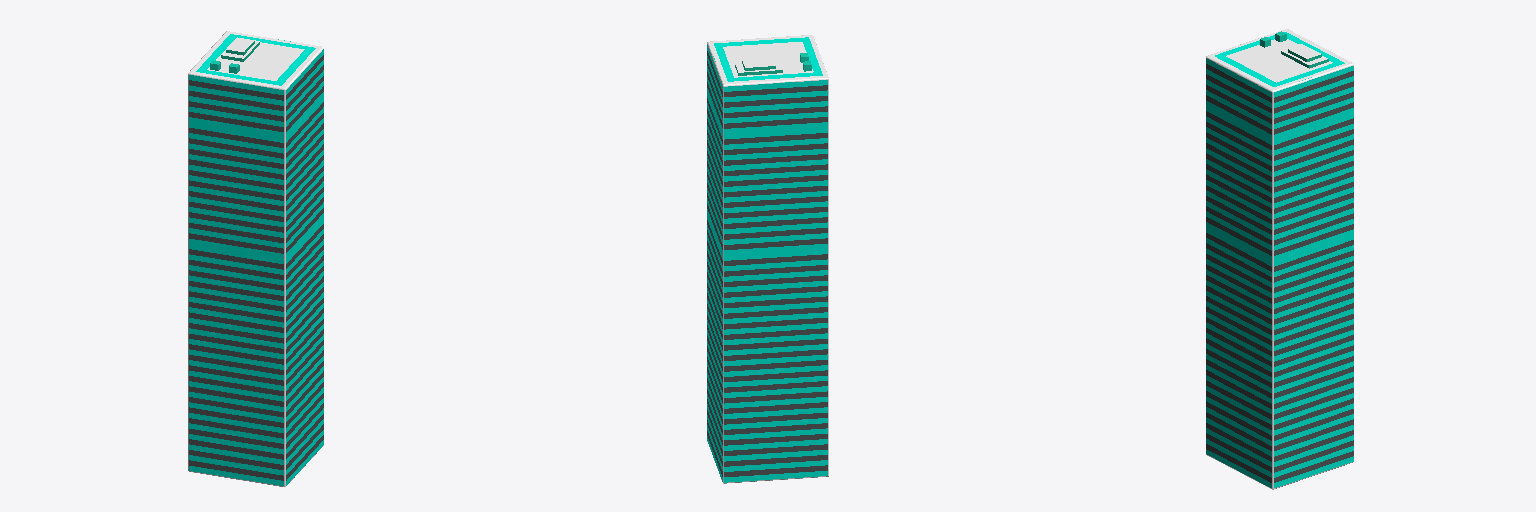
File: init_map_build2.obj
The picture shows the model from 3 angles: view 1: azimuth 30°, elevation 25°; view 2: azimuth 150°, elevation 25°; view 3: azimuth 270°, elevation 25°; orthographic projection.
Visible parts, largest first — view 1: 立方体.1; view 2: 立方体.1; view 3: 立方体.1.
Part boxes in pixels (bbox=[...]): 立方体.1: bbox=[188, 31, 323, 486]; 立方体.1: bbox=[707, 35, 828, 483]; 立方体.1: bbox=[1206, 29, 1353, 489].
Bounding box in the file's own units: 50.98 × 153 × 50.88.